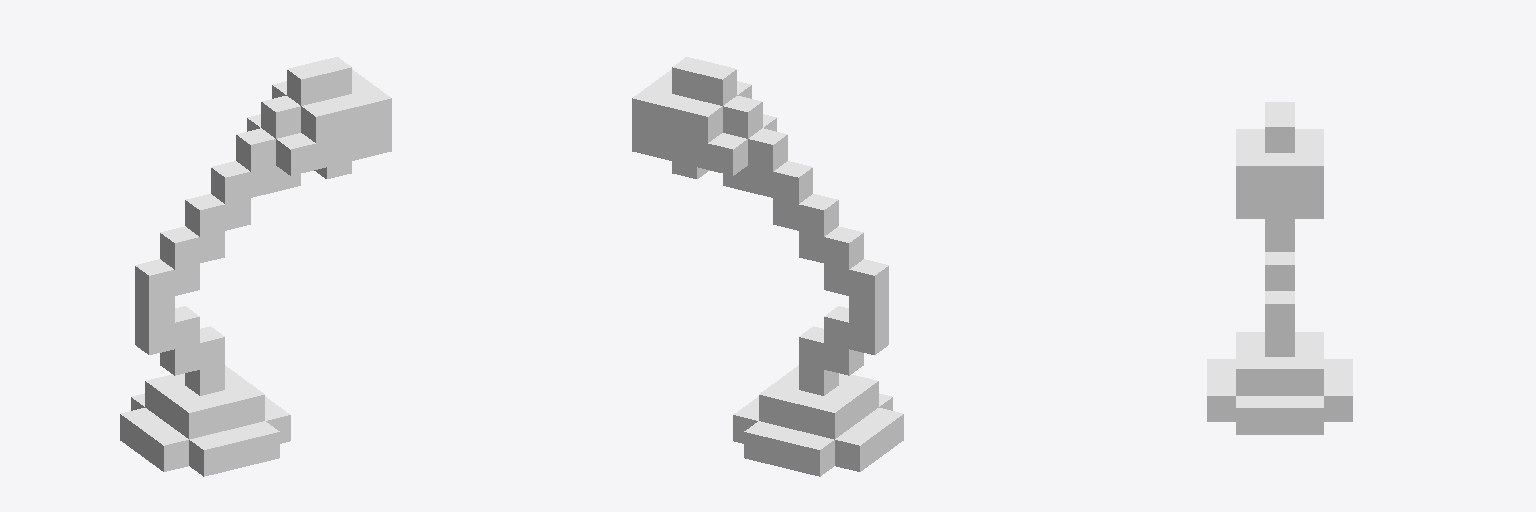
Rendered from F_Lamp.obj.
3 renders of one model, left to right at view 1: azimuth 30°, elevation 25°; view 2: azimuth 150°, elevation 25°; view 3: azimuth 270°, elevation 25°, orthographic.
Visible parts, largest first — view 1: object 1; view 2: object 1; view 3: object 1.
Part boxes in pixels (bbox=[...]): object 1: bbox=[120, 57, 391, 476]; object 1: bbox=[632, 57, 903, 476]; object 1: bbox=[1207, 102, 1352, 434].
Bounding box in the file's own units: 0.9 × 1.3 × 0.5.